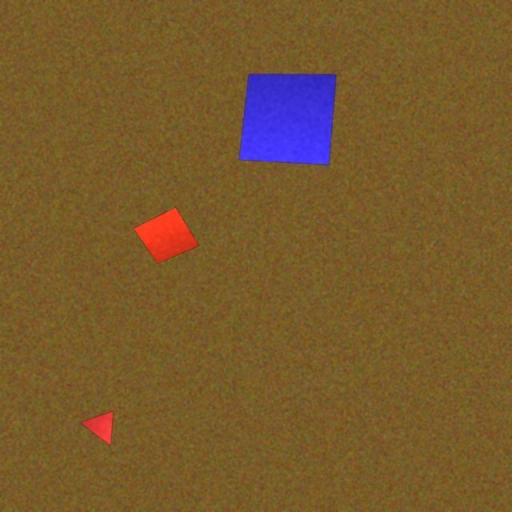BLUE_SQUARE: (238, 72, 337, 166)
RED_SQUARE: (132, 206, 200, 264)
